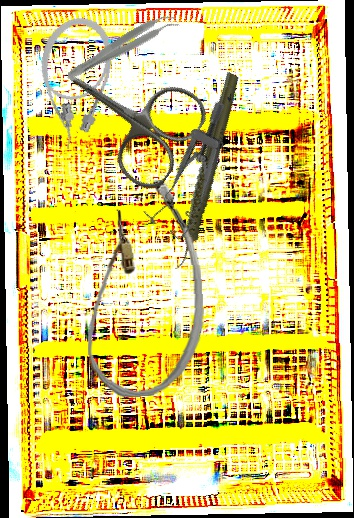Cannula: (76, 177, 210, 400), (23, 10, 121, 155)
Handpiece: (130, 70, 278, 273)
Iris Scissors: (38, 30, 215, 197)
Speculum: (131, 98, 264, 245)
Tissue Forceps: (64, 8, 181, 87)
